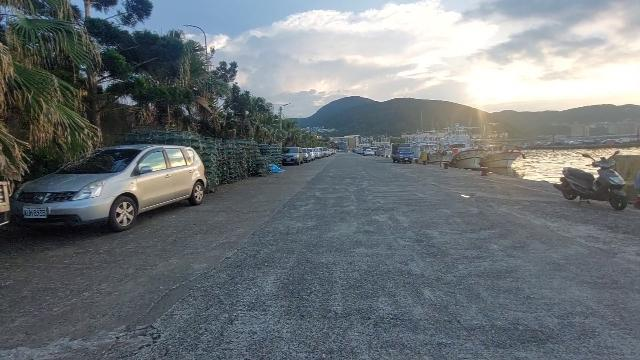pollute: (270, 165, 286, 174)
